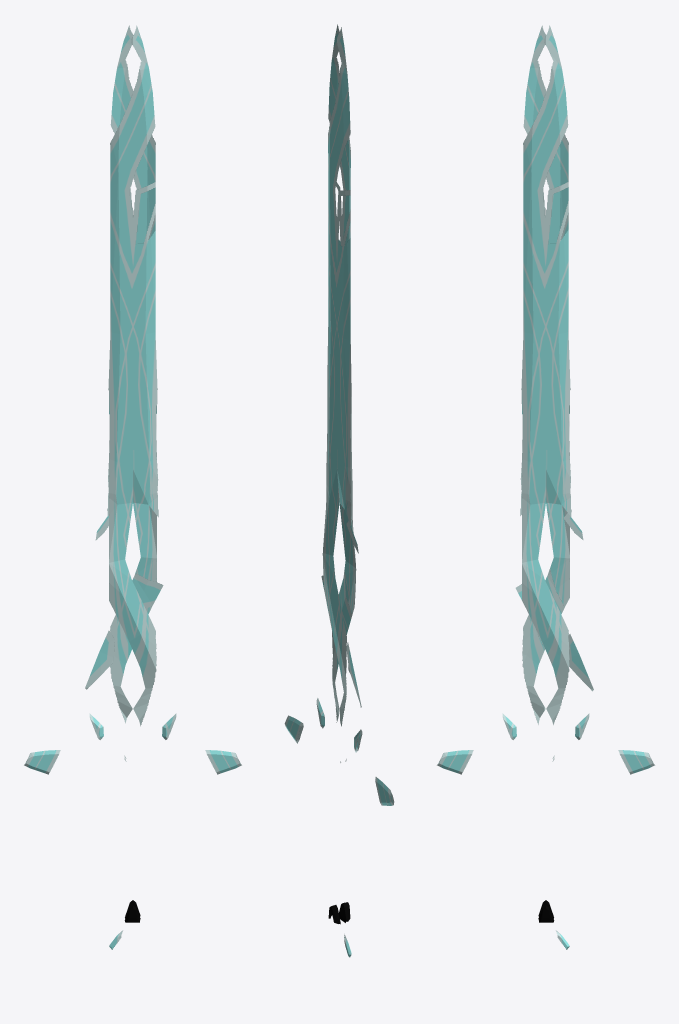
The model's file is firefly_sword.obj.
The picture shows the model from 3 angles, left to right: view 1: azimuth 90°, elevation 25°; view 2: azimuth 210°, elevation 25°; view 3: azimuth 270°, elevation 25°; orthographic projection.
Parts seen in each view (by area): view 1: 剑; view 2: 剑; view 3: 剑.
Part boxes in pixels (left/top/right/bottom): 剑: left=24, top=25, right=241, bottom=949; 剑: left=284, top=24, right=394, bottom=957; 剑: left=437, top=25, right=654, bottom=949.
Size of the model in its own units: 0.0849 by 4.07 by 0.8808.
